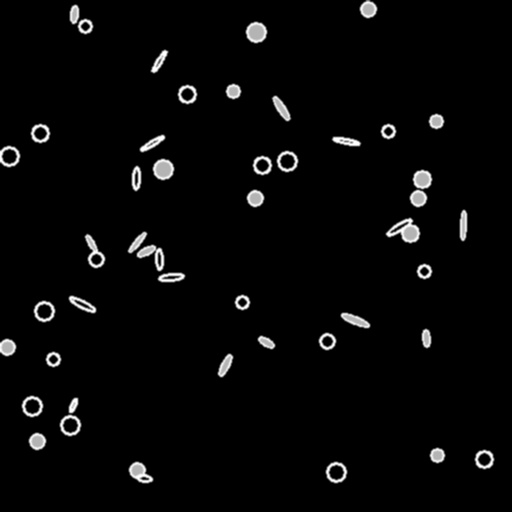pseudomonas: (385, 216, 413, 238), (271, 95, 291, 121), (68, 295, 96, 313), (340, 312, 370, 328), (139, 134, 165, 152), (150, 49, 168, 73), (128, 231, 146, 253), (217, 353, 233, 377), (136, 244, 156, 258), (332, 136, 360, 146), (84, 234, 98, 252), (257, 335, 275, 349), (159, 273, 183, 281), (132, 166, 140, 190), (460, 211, 466, 239), (68, 397, 78, 413), (155, 249, 163, 269), (136, 473, 152, 483), (422, 329, 430, 347), (70, 6, 78, 22)
synechocystis: (61, 416, 79, 434), (278, 152, 296, 170), (327, 463, 345, 481), (35, 302, 53, 320), (0, 147, 18, 165), (23, 397, 41, 415), (247, 23, 265, 41), (154, 160, 172, 178), (179, 86, 195, 102), (32, 125, 48, 141), (476, 451, 492, 467), (254, 157, 270, 173), (414, 171, 430, 187), (402, 225, 418, 241), (130, 463, 144, 477), (320, 334, 334, 348), (361, 2, 375, 16), (248, 191, 262, 205), (411, 191, 425, 205), (89, 252, 103, 266), (0, 340, 14, 354), (30, 434, 44, 448), (47, 353, 59, 365), (382, 125, 394, 137), (430, 115, 442, 127), (227, 85, 239, 97), (79, 20, 91, 32), (418, 265, 430, 277), (236, 296, 248, 308), (431, 449, 443, 461)
